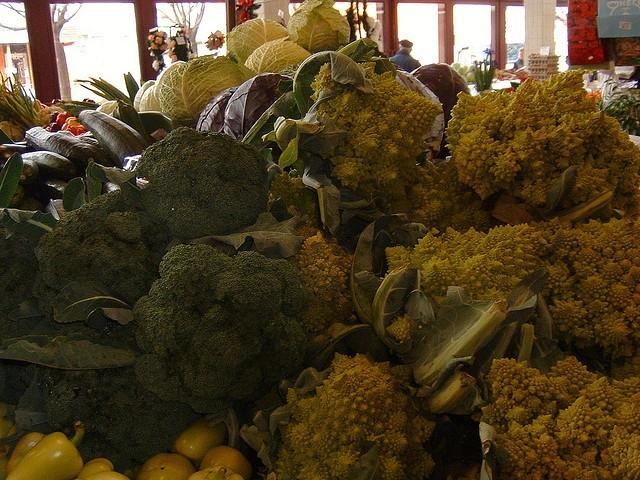bell pepper: (1, 420, 86, 478), (174, 419, 228, 470), (199, 446, 252, 480), (136, 453, 198, 480), (76, 458, 130, 480), (56, 111, 74, 128), (66, 125, 78, 136)
broccoli: (132, 244, 309, 422), (30, 189, 172, 321), (43, 366, 211, 475), (134, 126, 269, 239), (2, 233, 40, 312), (0, 358, 34, 405)
